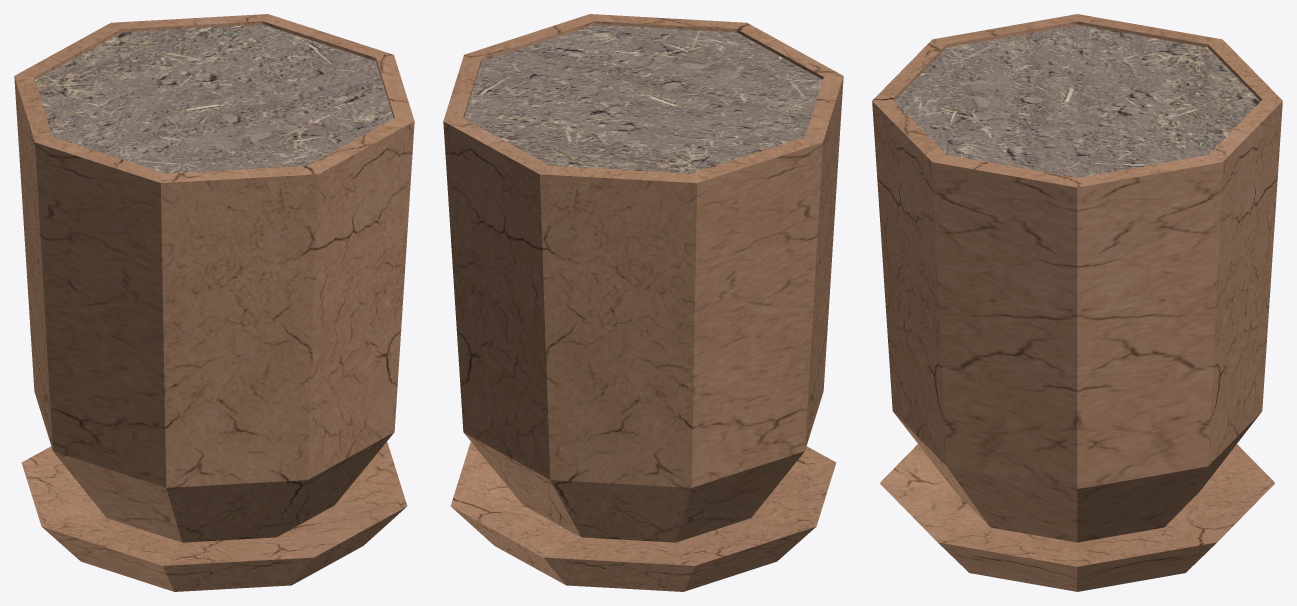
The model's file is planta_e_vaso.fbx.
The picture shows the model from 3 angles, left to right: view 1: azimuth 30°, elevation 25°; view 2: azimuth 150°, elevation 25°; view 3: azimuth 270°, elevation 25°; orthographic projection.
Visible parts, largest first — view 1: Cylinder.001; view 2: Cylinder.001; view 3: Cylinder.001.
Part boxes in pixels (x1,y1,x2,y2): Cylinder.001: (14, 14, 414, 591); Cylinder.001: (443, 14, 843, 591); Cylinder.001: (872, 14, 1282, 591).
Size of the model in its own units: 143 by 164 by 143.
2 materials, 2 textured.
